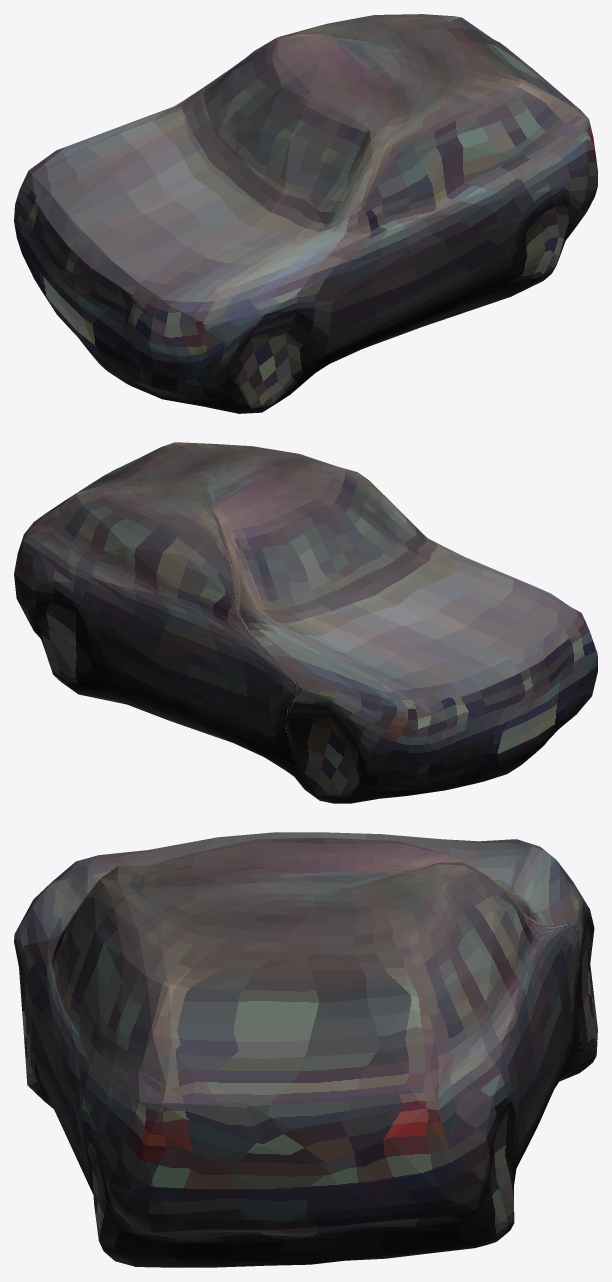
The model's file is video3_31.obj.
The picture shows the model from 3 angles, top to bottom: view 1: azimuth 30°, elevation 25°; view 2: azimuth 150°, elevation 25°; view 3: azimuth 270°, elevation 25°; orthographic projection. The views are drawn at different scales.
Bounding box in the file's own units: 1 × 0.4785 × 0.6874.
1 material, 1 textured.
